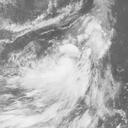cyclone: (37, 45, 91, 95)
